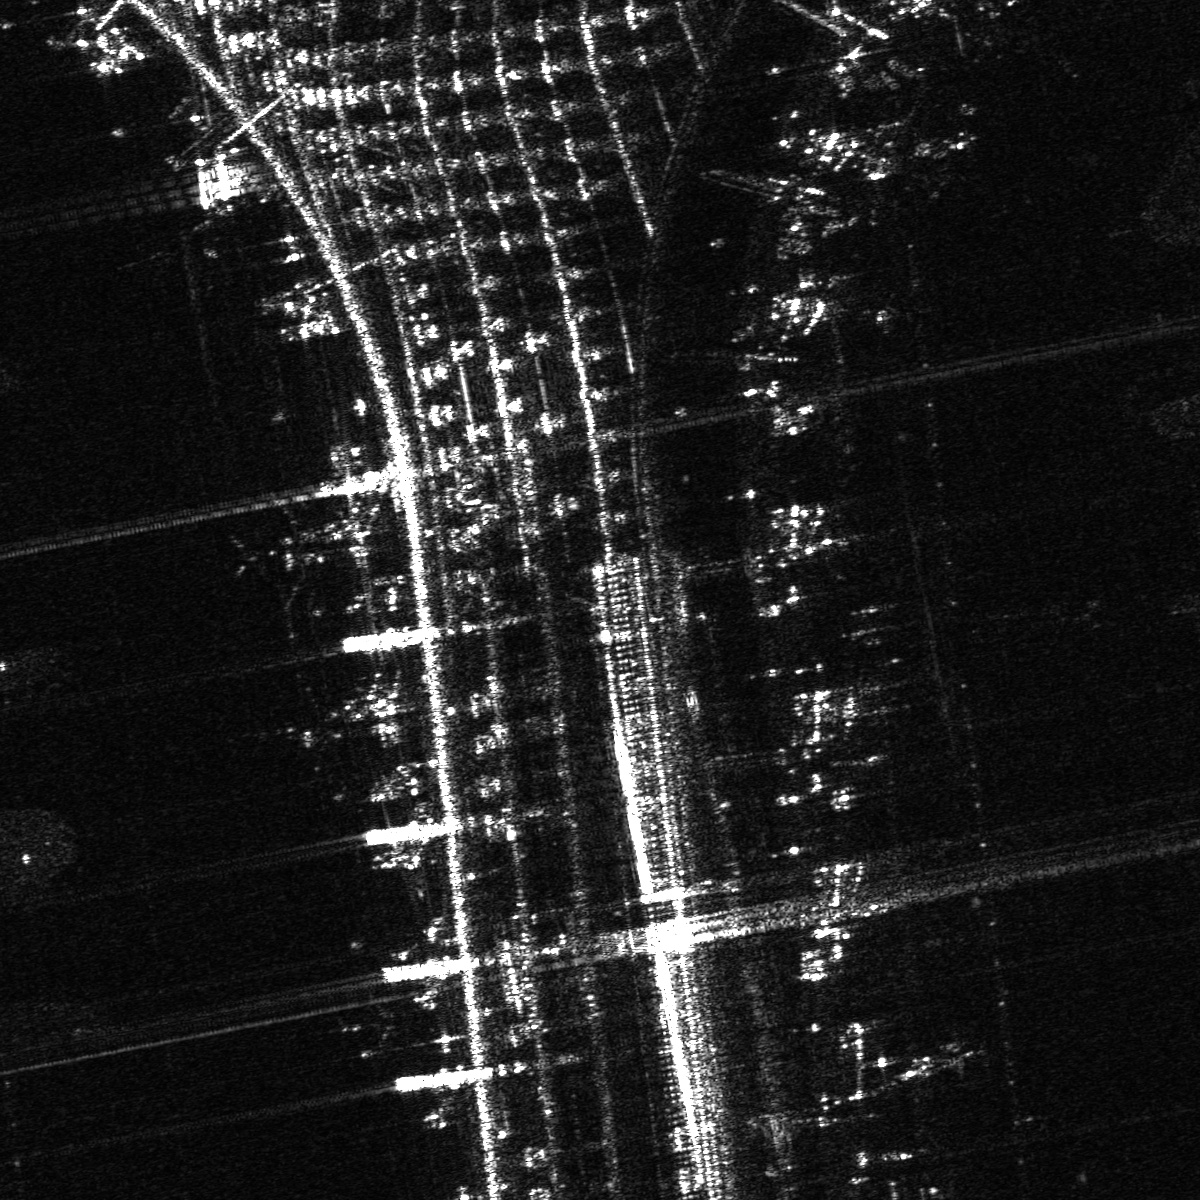A220: (332, 985, 419, 1063), (800, 499, 868, 584)
other: (227, 662, 355, 795), (226, 484, 348, 621)
